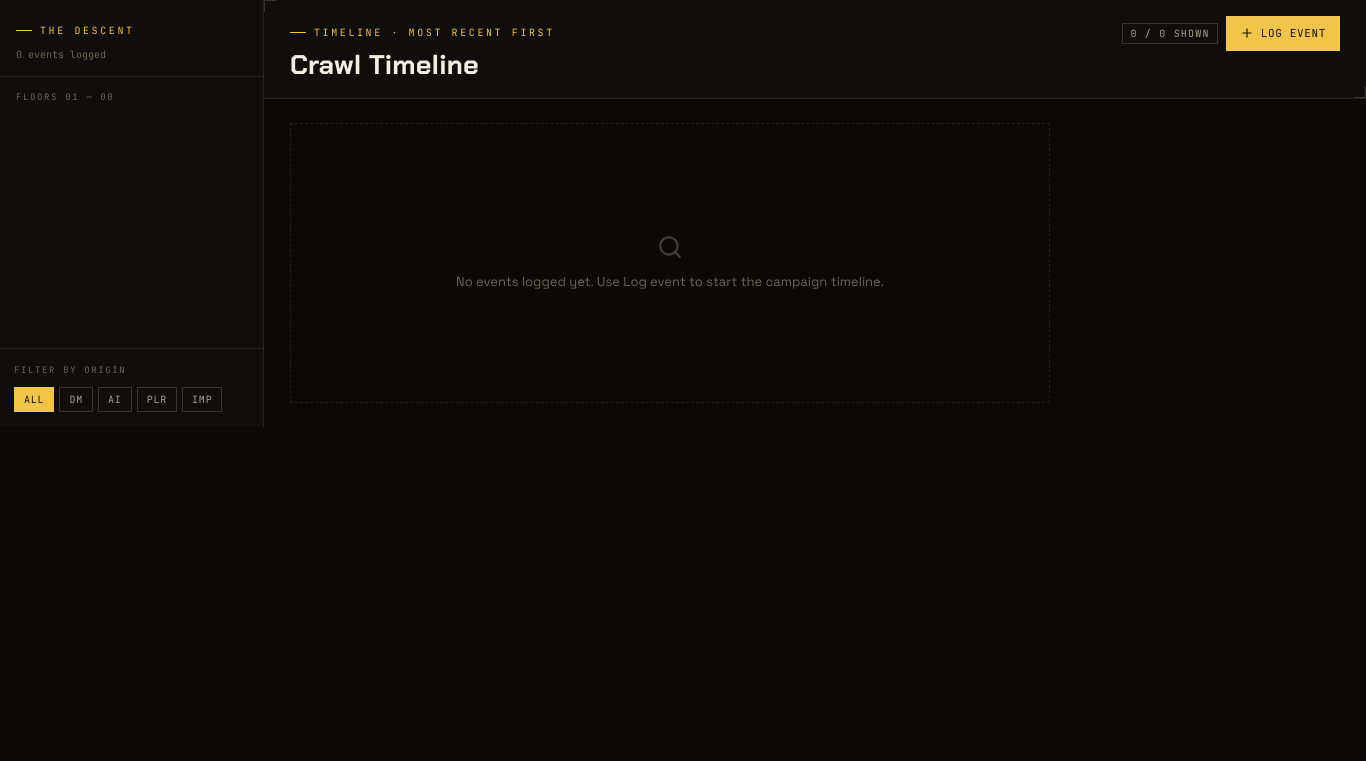
Test: CampaignTimeline › explains optional participants and offers effects in the log form
Click the button "Log event" at (1283,33), box left=1226, top=16, right=1340, bottom=50
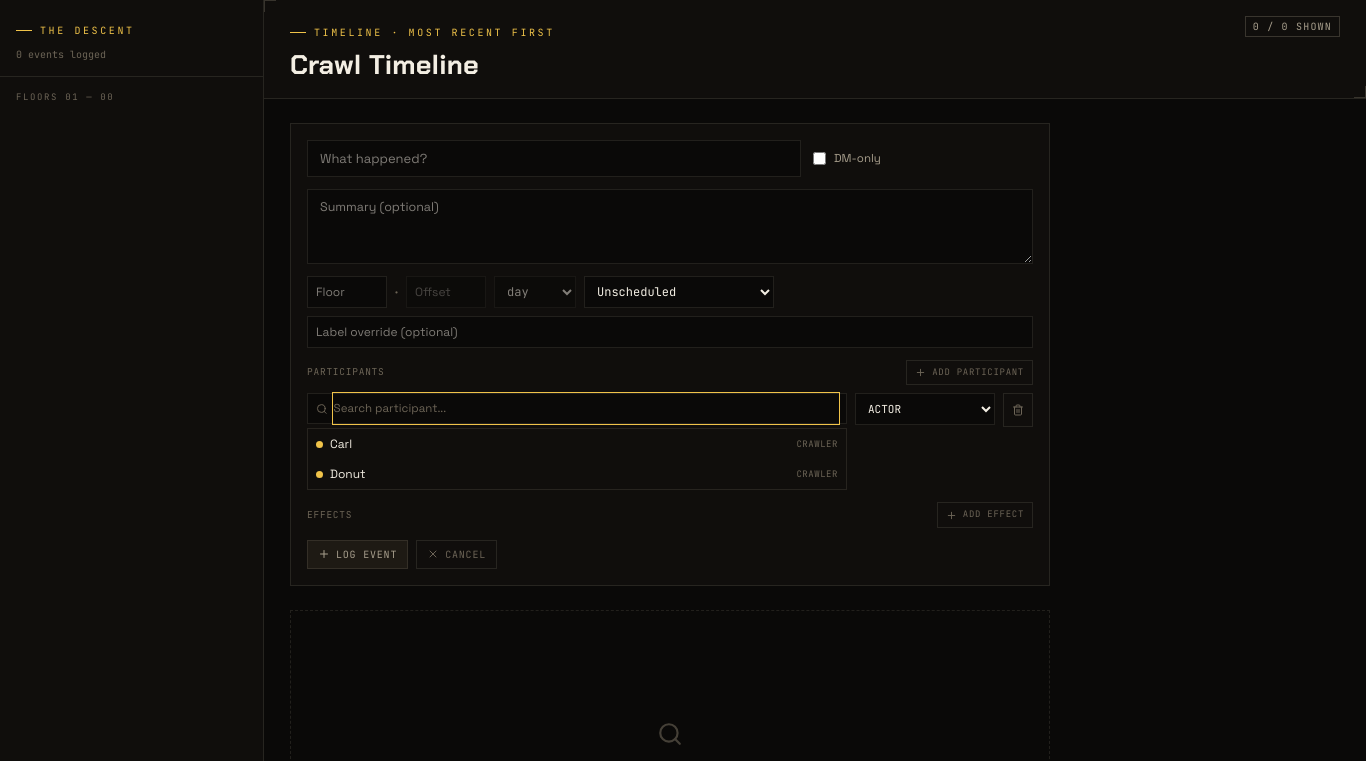
Note: Timeline entries can be campaign-wide notes with no actor or participant.
Click the button titled "Remove participant row" at (1018,410), box left=1003, top=393, right=1033, bottom=427
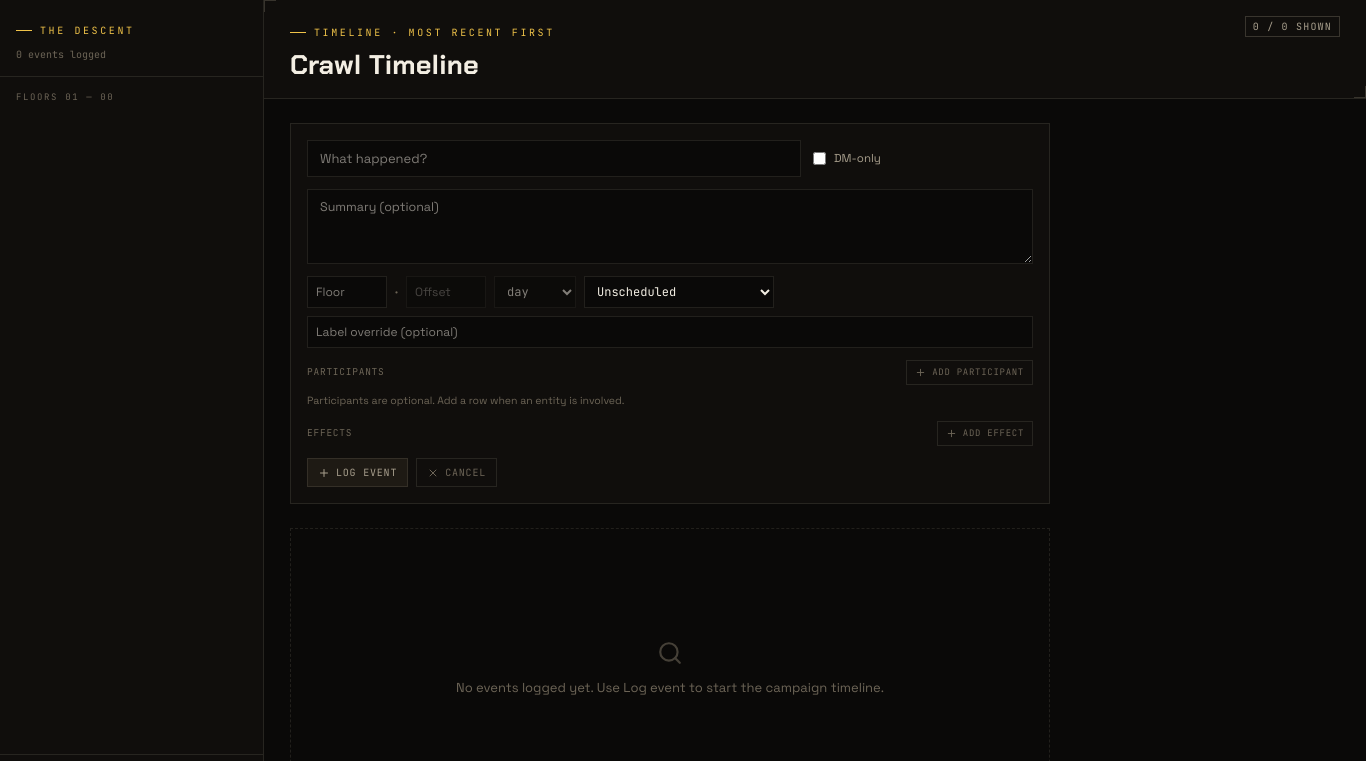
Check: the button "Add effect" is shown, box left=937, top=421, right=1033, bottom=446
Check: the text "Participants are optional" is shown, box left=307, top=394, right=624, bottom=407
